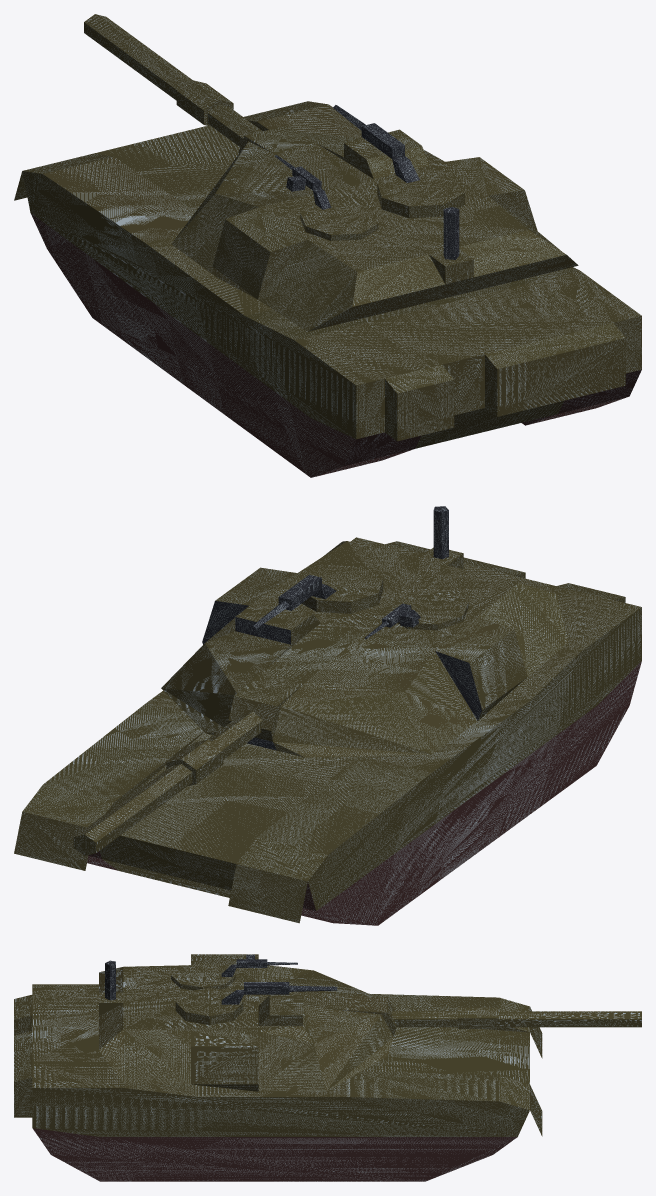
Rendered from HeavyTank1.dae.
3 views of the same model, one above another, from view 1: azimuth 30°, elevation 25°; view 2: azimuth 150°, elevation 25°; view 3: azimuth 270°, elevation 25° (orthographic). The views are drawn at different scales.
Parts seen in each view (by area): view 1: group_15, group_1 (×2), group_13, group_7, group_14, group_9, group_0, group_3; view 2: group_15, group_1 (×2), group_13, group_7, group_5, group_9, group_0, group_2, group_3, group_10; view 3: group_15, group_1 (×2), group_14, group_7, group_9, group_0, group_3, group_11.
Boxes of the visible parts, left/top/right/bottom form: group_15: left=14, top=101, right=641, bottom=448; group_1 (×2): left=171, top=125, right=578, bottom=331; group_13: left=30, top=213, right=420, bottom=477; group_7: left=84, top=14, right=262, bottom=146; group_14: left=522, top=369, right=641, bottom=425; group_9: left=333, top=105, right=404, bottom=159; group_0: left=296, top=341, right=384, bottom=385; group_3: left=443, top=207, right=459, bottom=259; group_15: left=14, top=537, right=641, bottom=923; group_1 (×2): left=161, top=541, right=568, bottom=757; group_13: left=301, top=661, right=641, bottom=925; group_7: left=73, top=711, right=262, bottom=855; group_5: left=435, top=651, right=481, bottom=720; group_9: left=250, top=574, right=321, bottom=630; group_0: left=580, top=600, right=641, bottom=651; group_2: left=202, top=601, right=248, bottom=644; group_3: left=433, top=506, right=448, bottom=559; group_10: left=235, top=617, right=290, bottom=644; group_15: left=14, top=987, right=542, bottom=1136; group_1 (×2): left=99, top=954, right=396, bottom=1091; group_14: left=33, top=1128, right=517, bottom=1181; group_7: left=391, top=1007, right=641, bottom=1028; group_9: left=244, top=982, right=337, bottom=994; group_0: left=32, top=984, right=98, bottom=994; group_3: left=105, top=960, right=115, bottom=1000; group_11: left=236, top=959, right=297, bottom=967.
Bounding box in the file's own units: 3.78 × 9.58 × 2.83.
